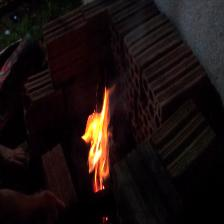fire: (70, 78, 132, 197)
